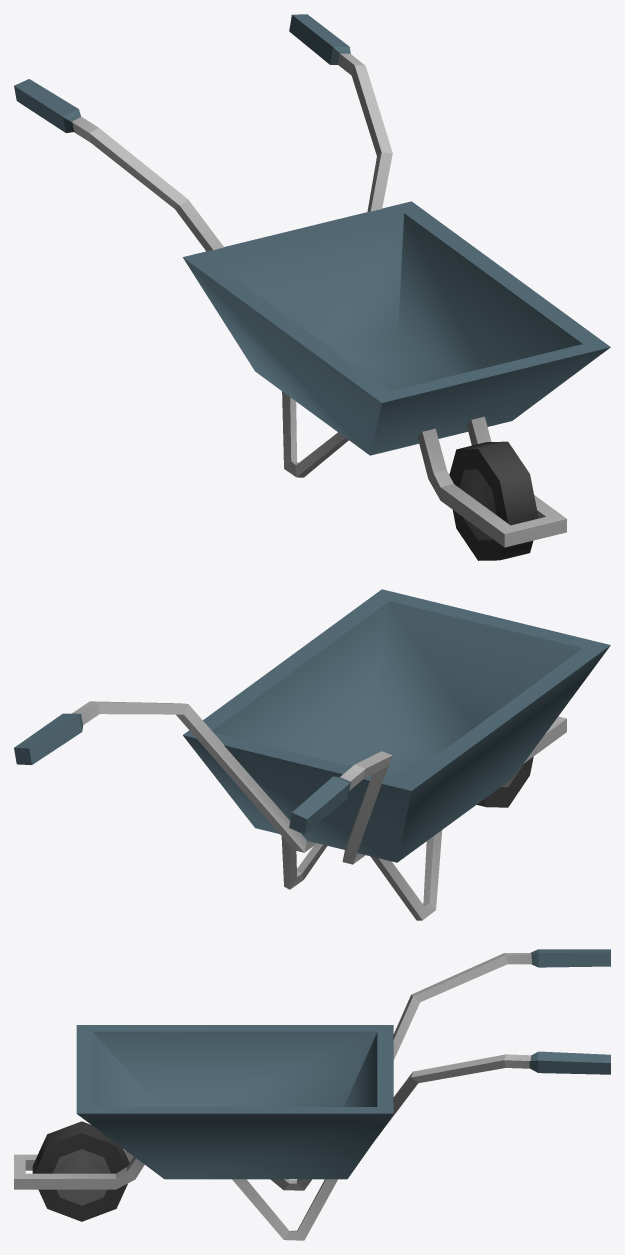
Rendered from cart_003.glb.
3 renders of one model, top to bottom at view 1: azimuth 30°, elevation 25°; view 2: azimuth 150°, elevation 25°; view 3: azimuth 270°, elevation 25°, orthographic. The views are drawn at different scales.
Parts seen in each view (by area): view 1: cart_003; view 2: cart_003; view 3: cart_003.
Boxes of the visible parts, x1=… form: cart_003: x1=14, y1=14, x2=610, y2=560; cart_003: x1=14, y1=589, x2=610, y2=920; cart_003: x1=14, y1=949, x2=610, y2=1240.
Size of the model in its own units: 1.03 by 0.901 by 2.28.
Materials: 1 (1 with a texture image).
